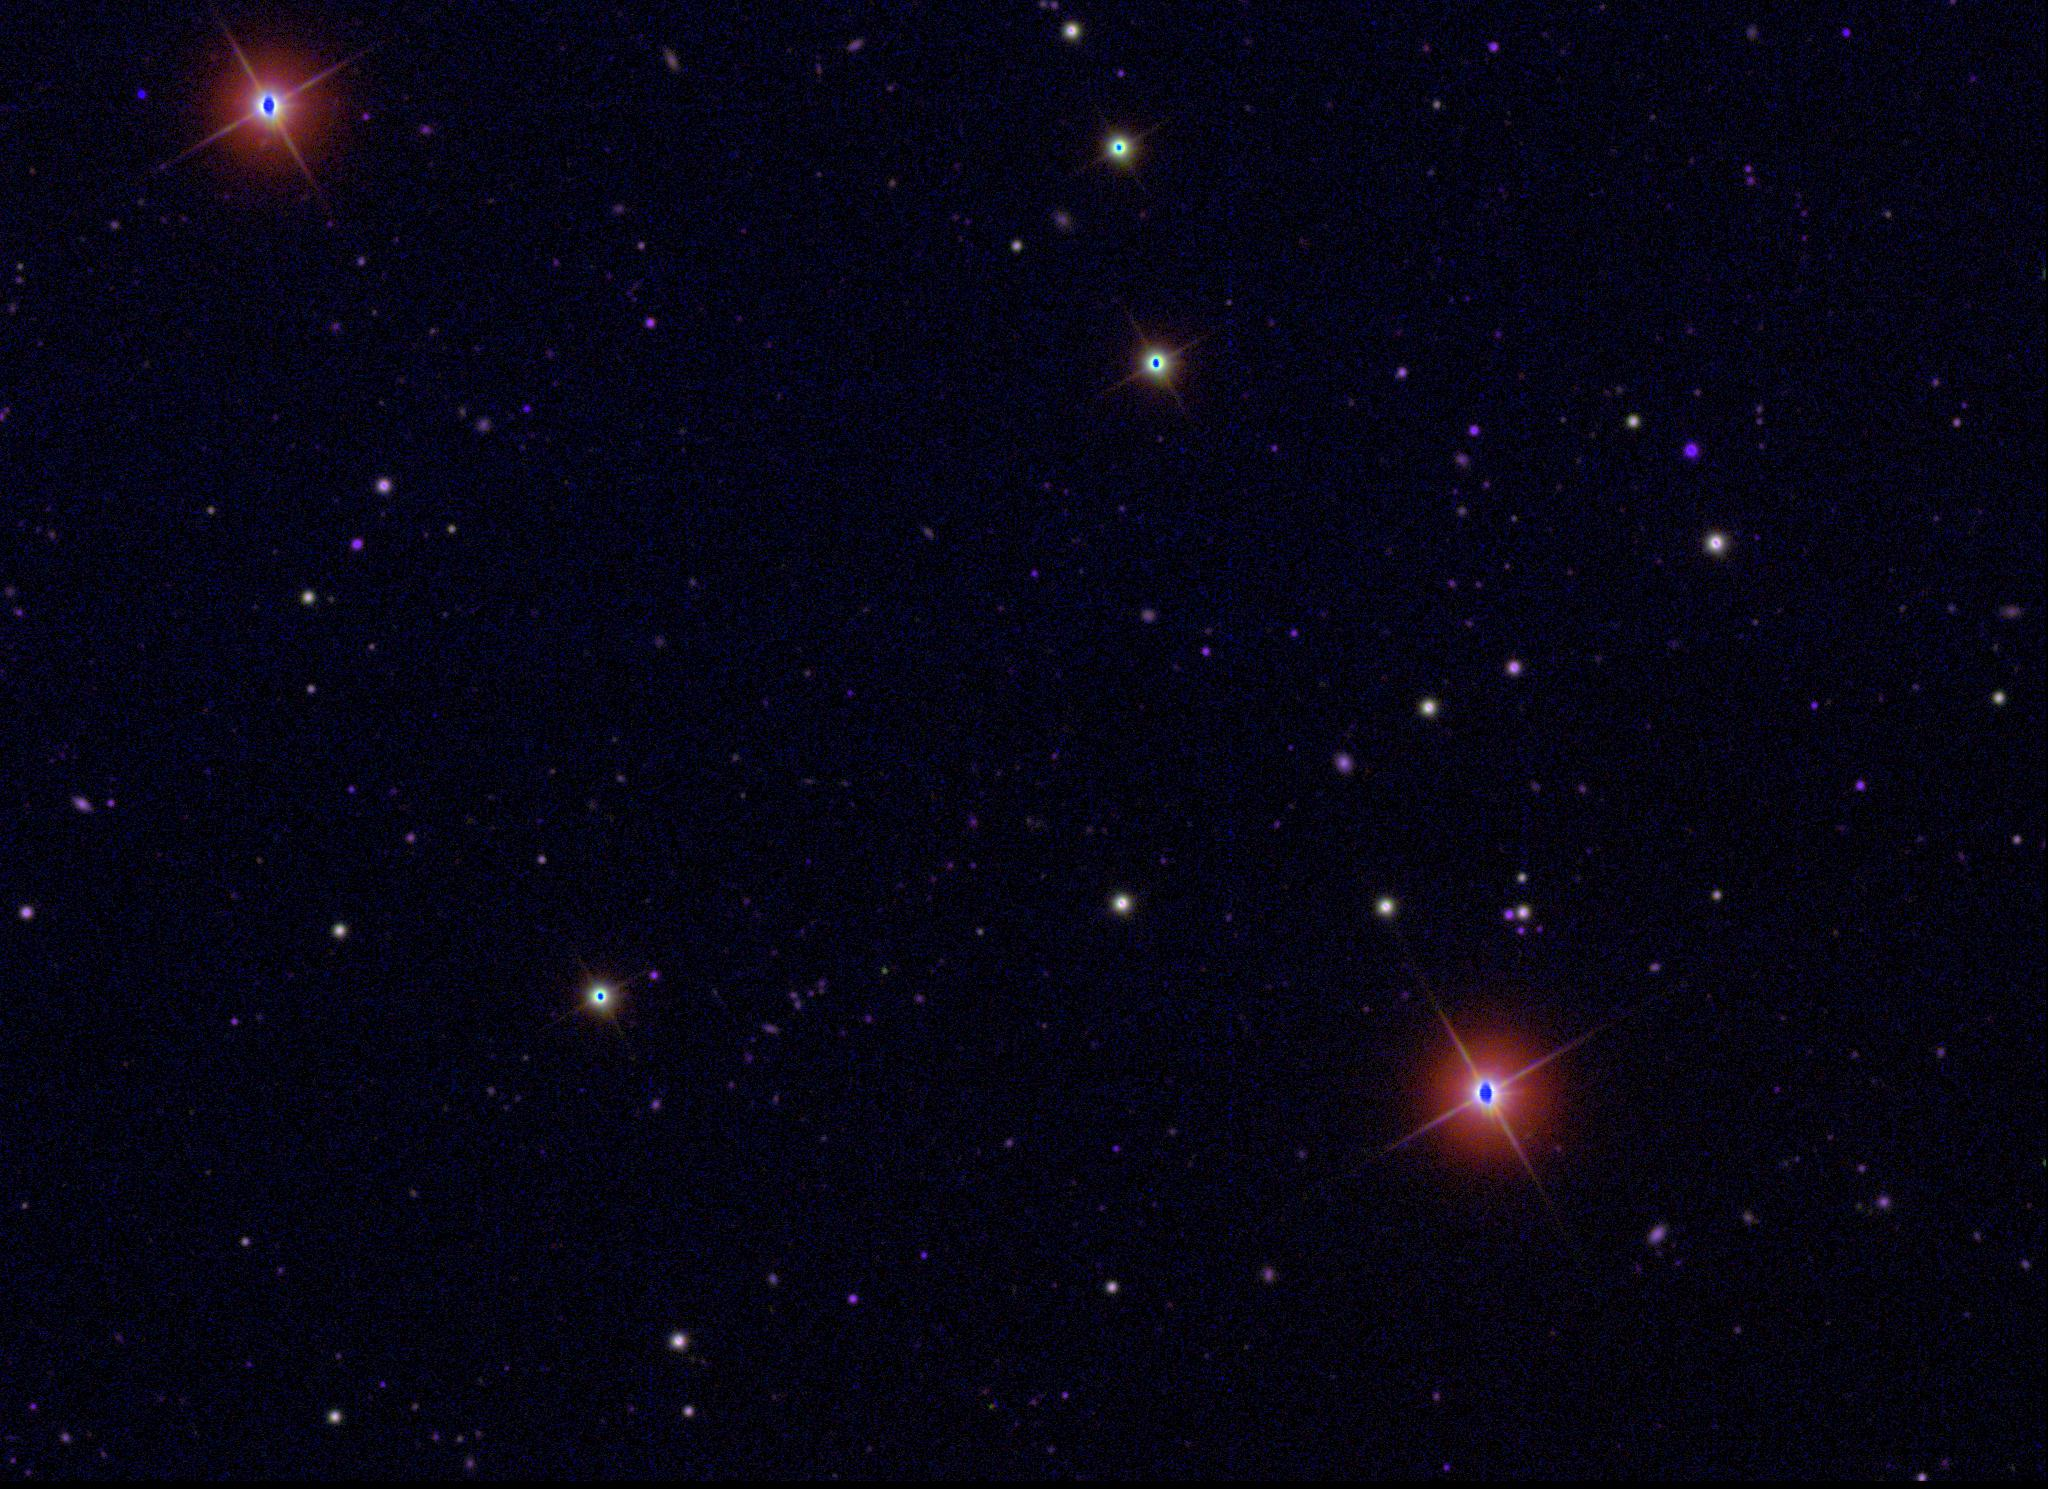L: (135, 83, 149, 97)
